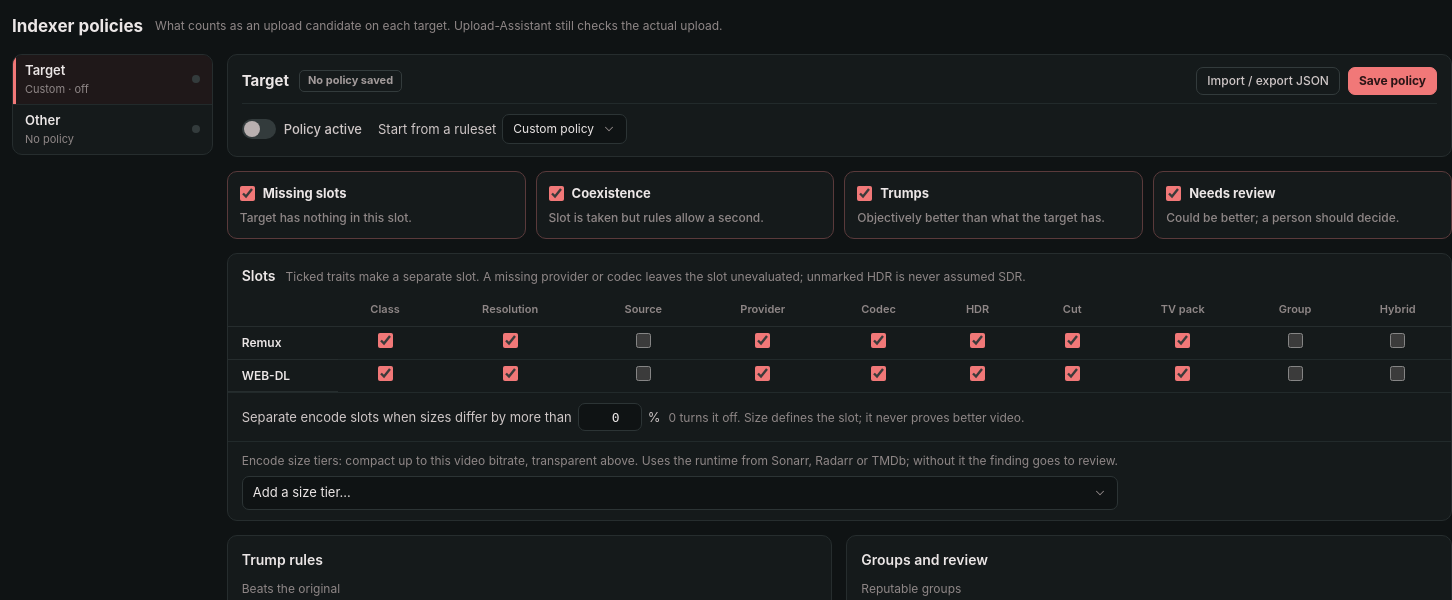
Test: applies a generic preset to one target and saves a policy snapshot
Press ArrowDown in the button with aria-label "Policy preset", box [502,114,627,144]
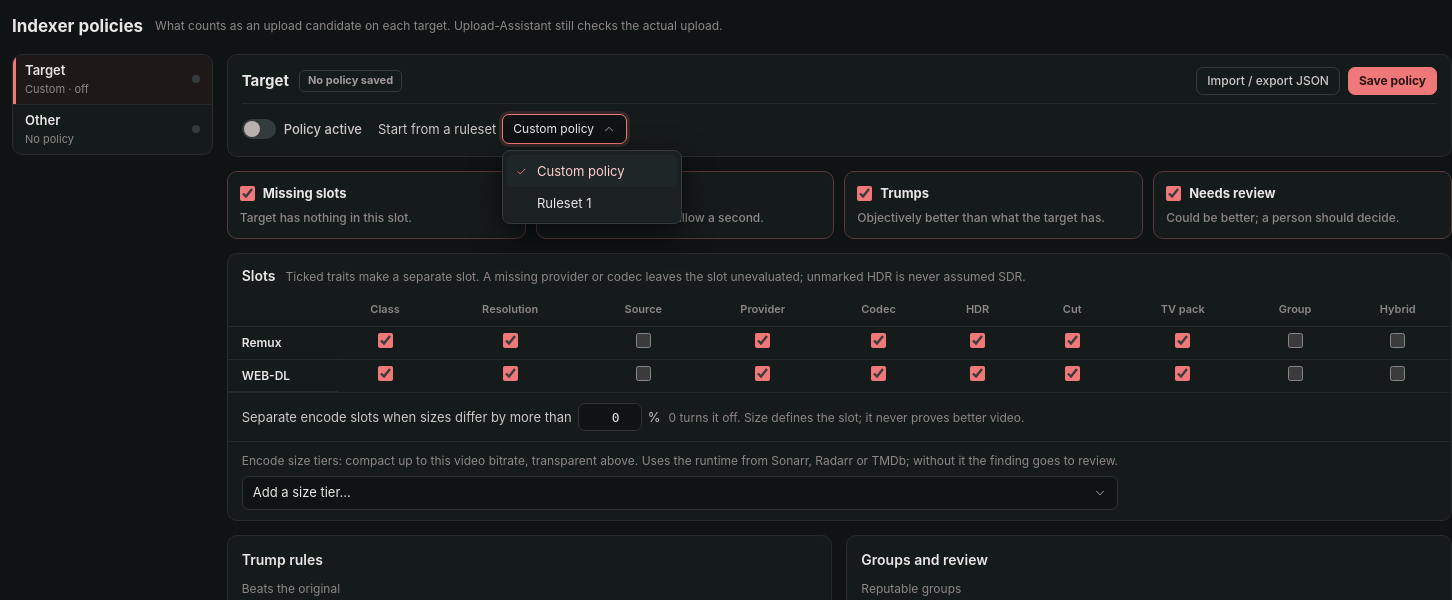
Click the menu item "Ruleset 1".
click(564, 203)  # box [537,195,591,211]
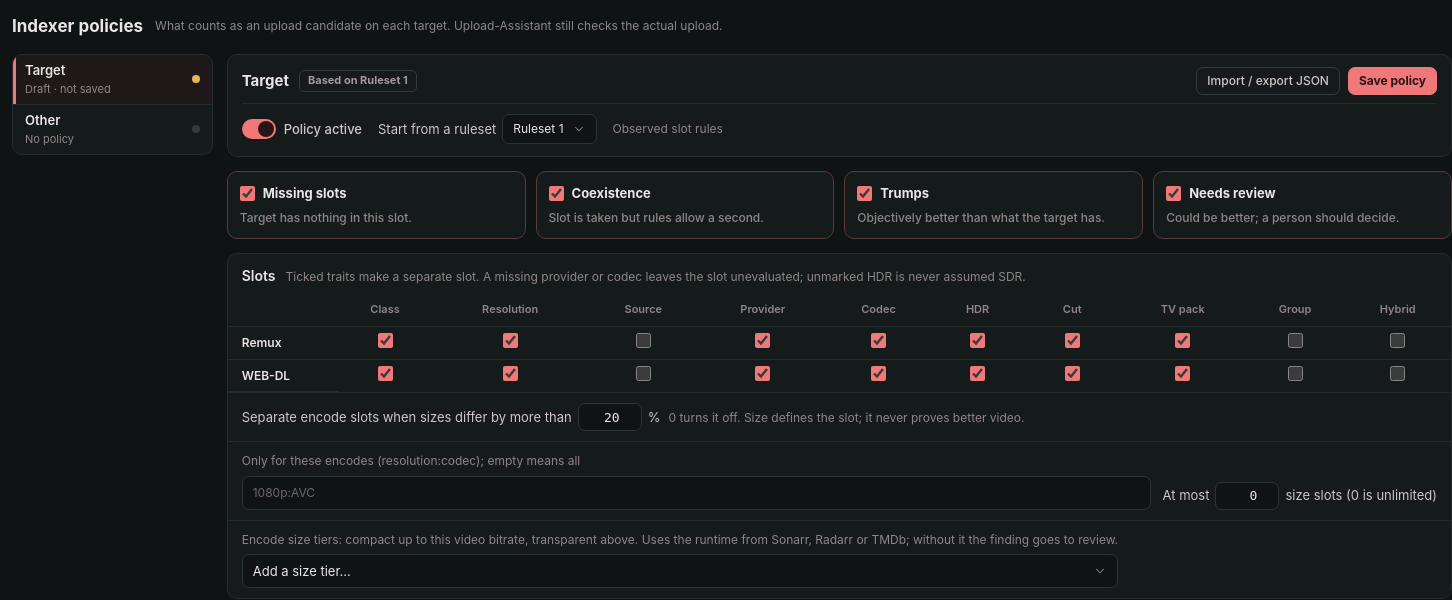
Now the text "Based on Ruleset 1" is shown, box [299,70,417,92]
Now the text "Draft · not saved" is shown, box [25,82,111,96]
Click the button "Save policy".
click(1392, 81)  # box [1348,67,1437,95]
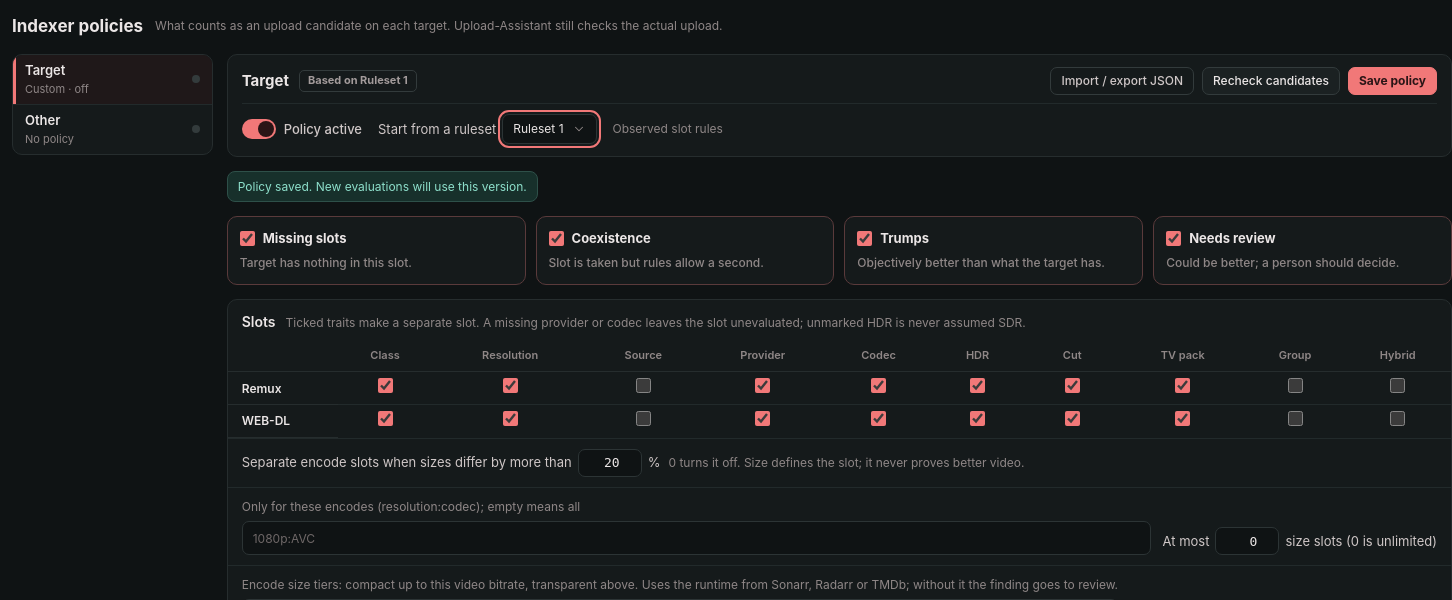
Now the text "Policy saved. New evaluations will use this version." is shown, box [227,171,538,202]
